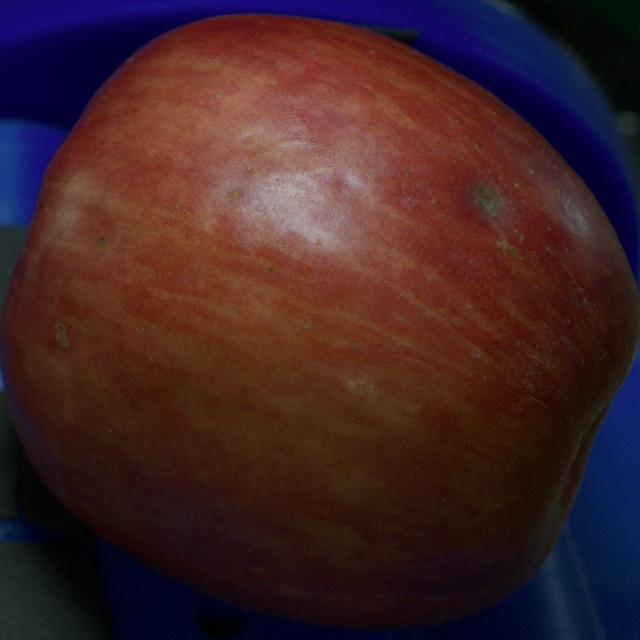apple: (0, 16, 639, 628)
pest: (472, 183, 504, 217), (54, 322, 68, 348), (98, 238, 104, 244)
